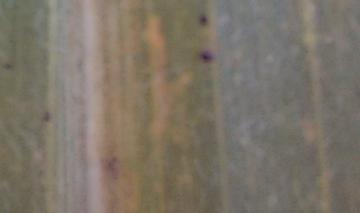tarspot: (196, 48, 214, 63), (40, 108, 52, 124), (197, 12, 209, 27), (1, 61, 14, 71)
